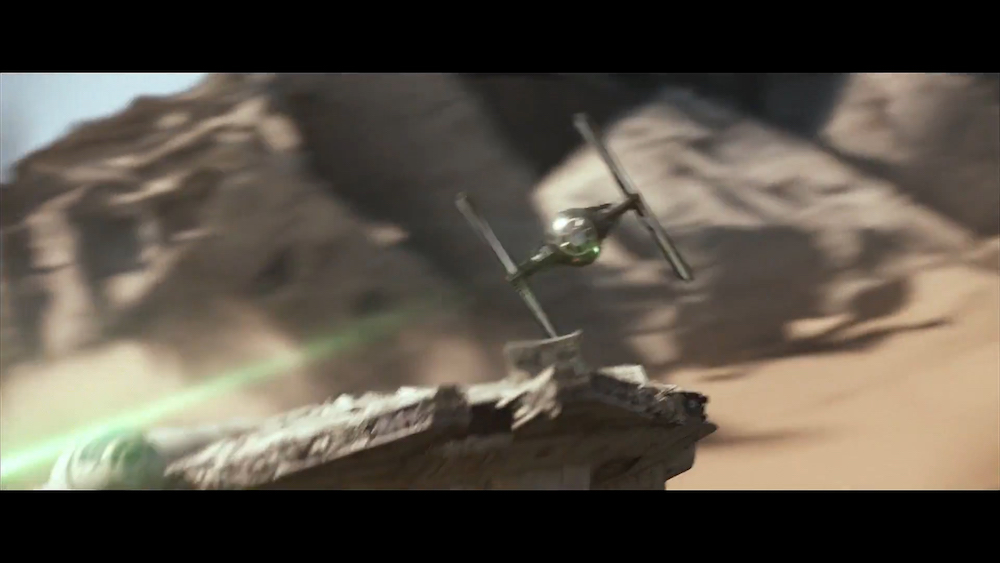Millennium Falcon: (48, 362, 720, 490)
Tie Fighter: (455, 117, 702, 350)
